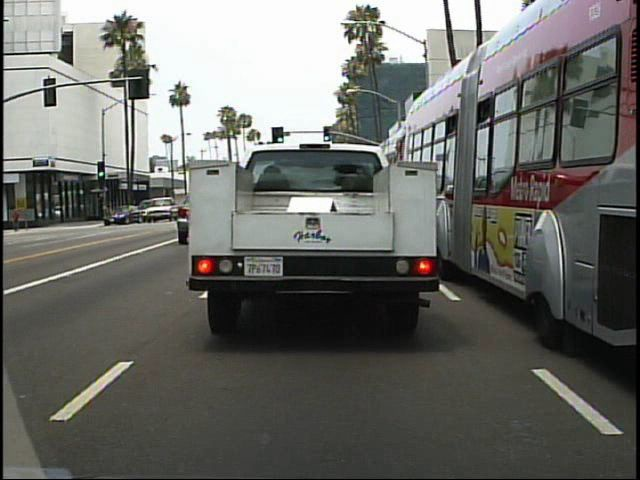person: (10, 205, 22, 235)
